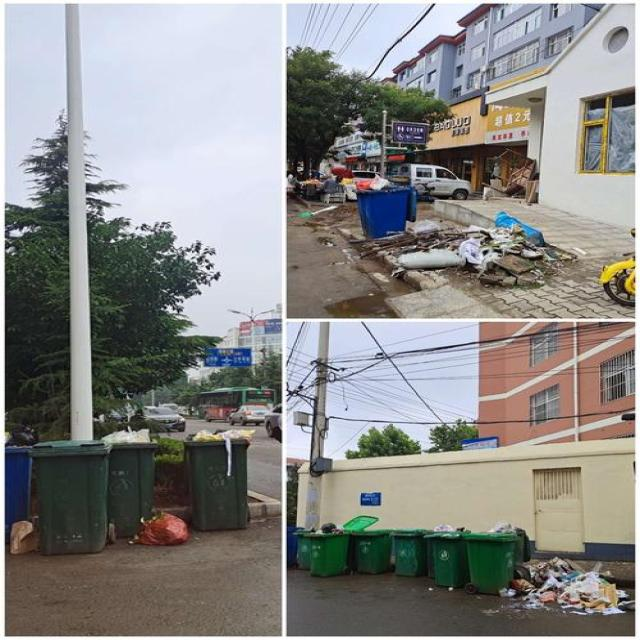garbage: (352, 210, 577, 286), (481, 556, 634, 614), (132, 509, 186, 545), (8, 520, 37, 553)
garbage_bin: (30, 439, 111, 555), (351, 528, 393, 572), (390, 528, 425, 574)
overflow: (183, 428, 255, 530), (101, 425, 160, 535), (465, 522, 526, 593), (355, 172, 416, 237), (425, 525, 471, 587), (305, 520, 348, 576)
